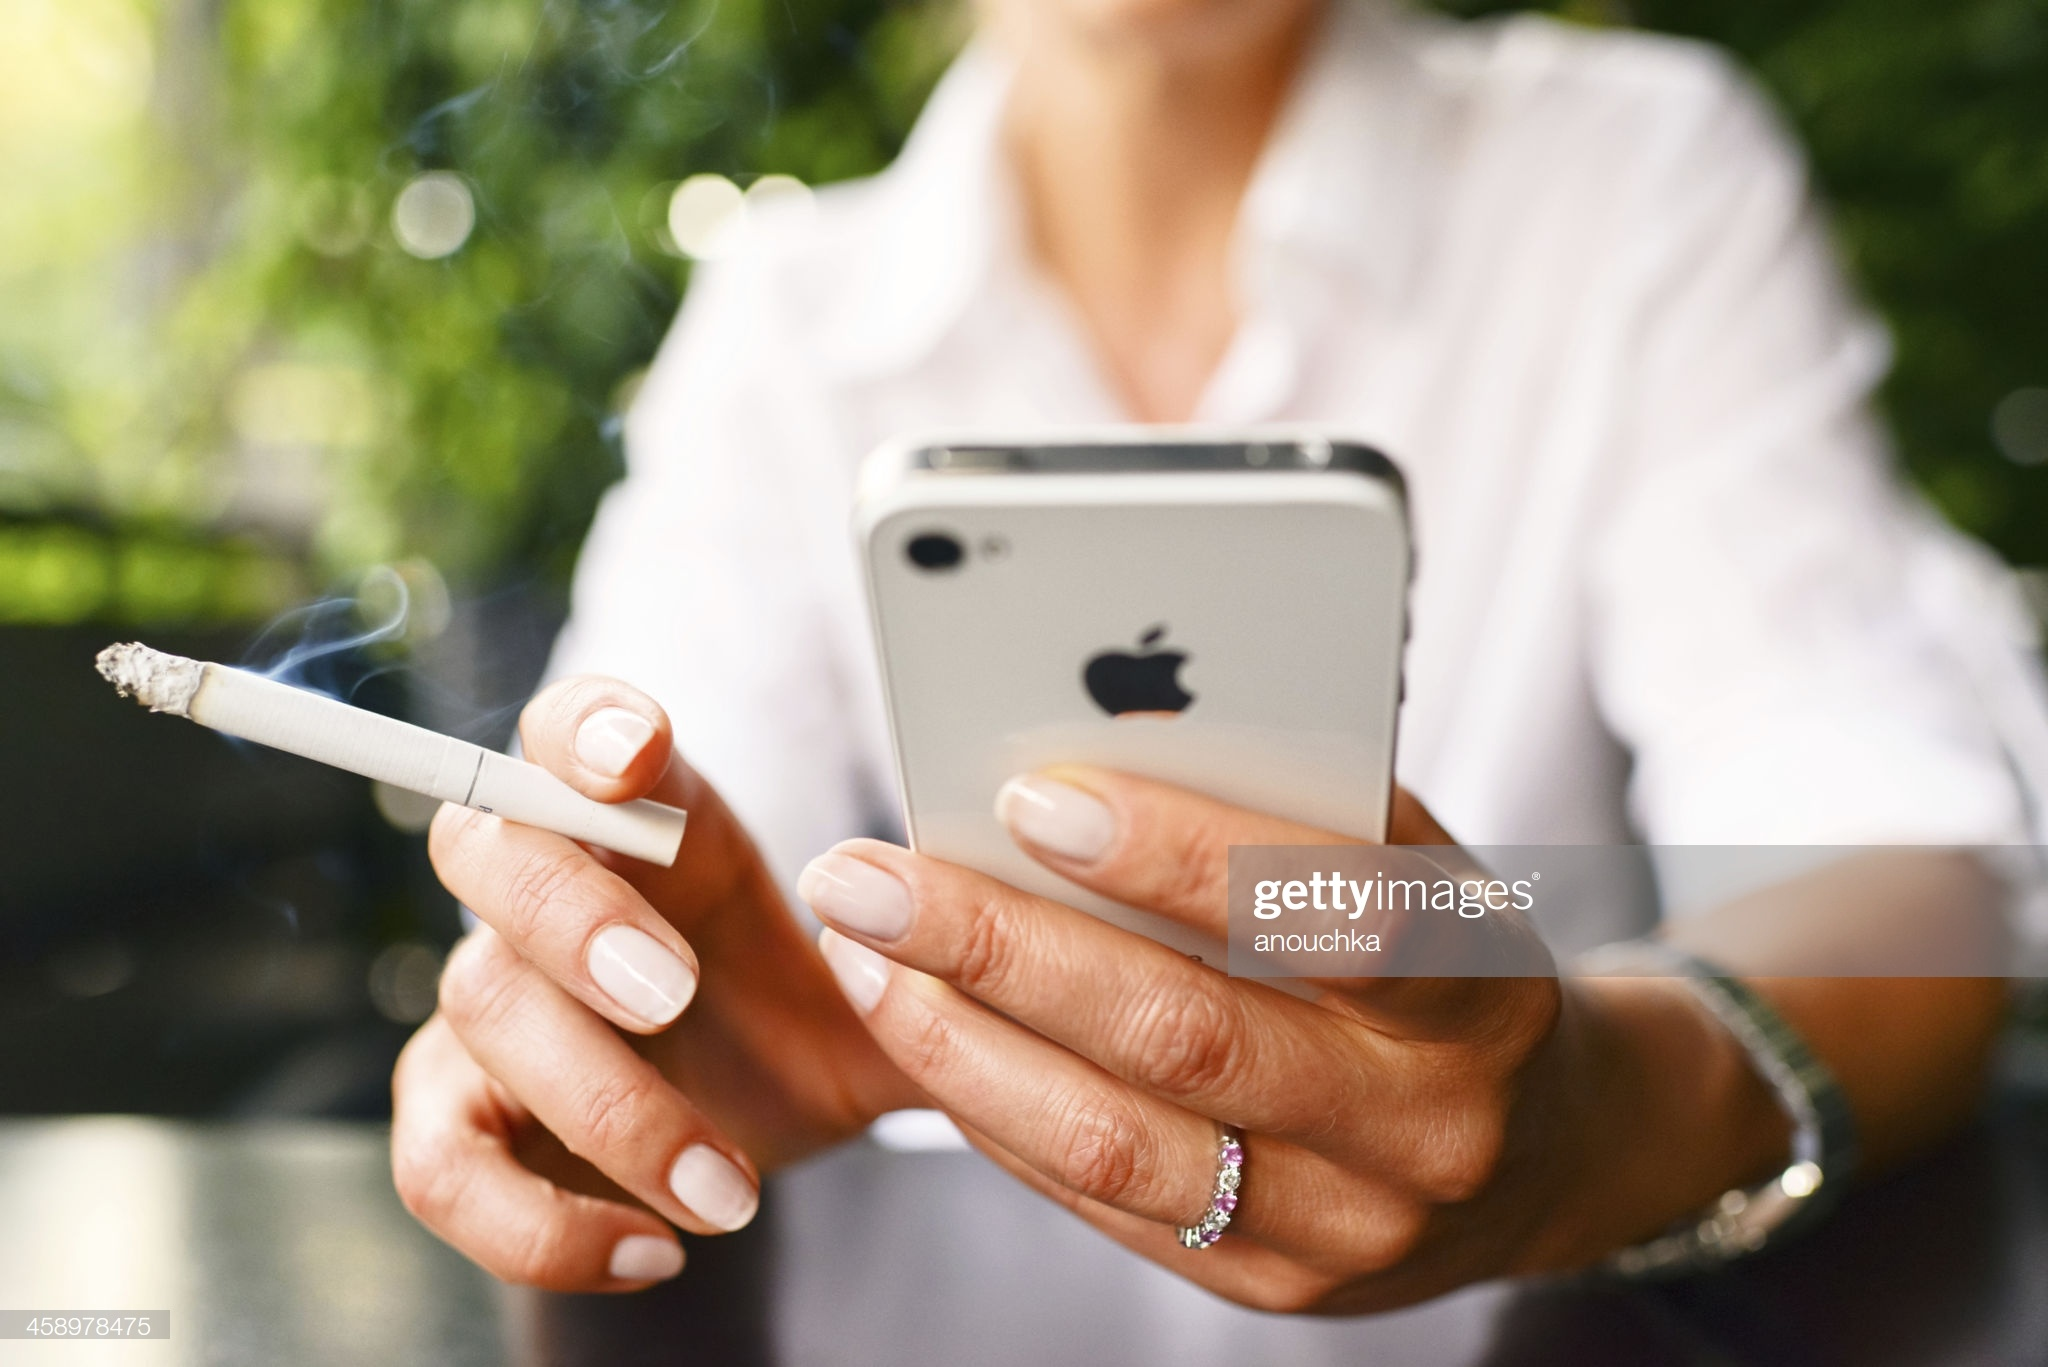sigaretta: (78, 636, 682, 860)
